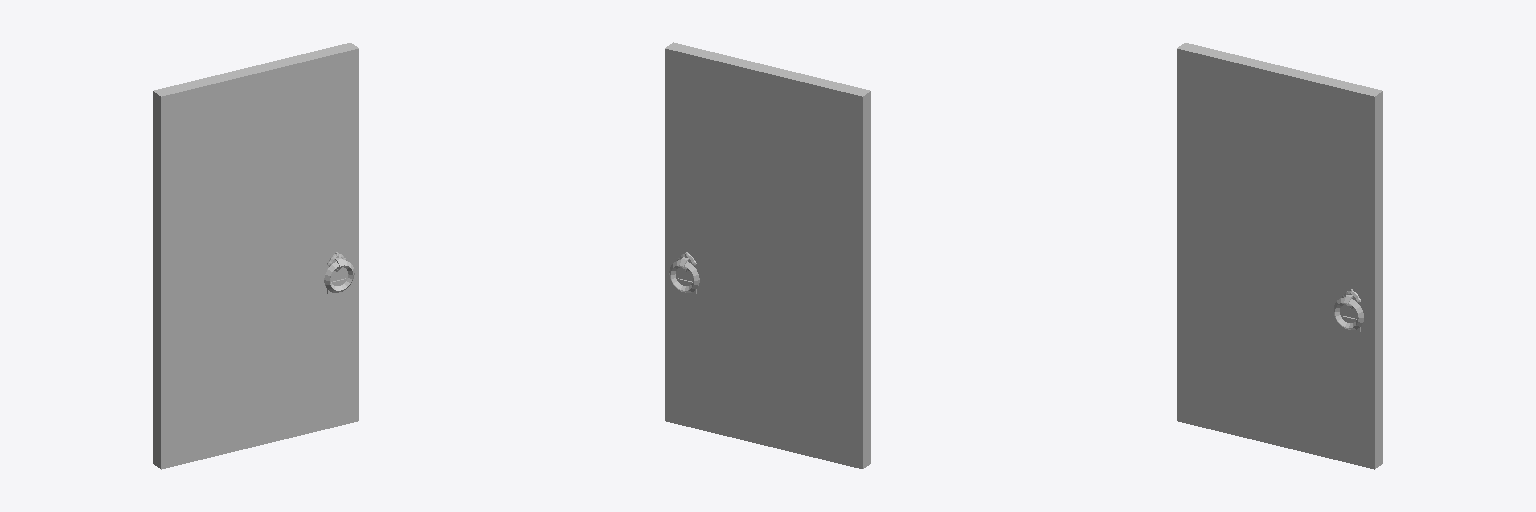
Rendered from Door.obj.
3 renders of one model, left to right at view 1: azimuth 30°, elevation 25°; view 2: azimuth 150°, elevation 25°; view 3: azimuth 330°, elevation 25°, orthographic.
Parts seen in each view (by area): view 1: Door_1; view 2: Door_1; view 3: Door_1.
Boxes of the visible parts, x1,y1,x2,y2 form: Door_1: [153, 43, 358, 469]; Door_1: [665, 42, 870, 468]; Door_1: [1177, 43, 1382, 469].
Size of the model in its own units: 0.8248 by 1.48 by 0.1438.